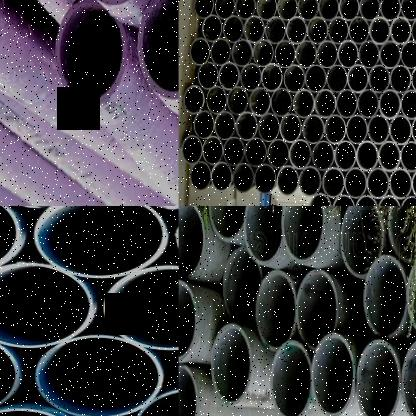pipe: (34, 335, 164, 416), (34, 206, 168, 278), (0, 262, 95, 348), (55, 0, 127, 107), (104, 264, 178, 350), (137, 0, 178, 99), (311, 332, 354, 416), (363, 256, 407, 338), (356, 339, 401, 416), (211, 324, 253, 406), (296, 270, 338, 350), (255, 271, 296, 349), (270, 341, 312, 416), (339, 206, 383, 277), (222, 246, 262, 322), (281, 206, 326, 264), (243, 206, 282, 264), (179, 206, 204, 278), (0, 331, 20, 416), (178, 280, 198, 362), (0, 206, 21, 278), (207, 206, 248, 239), (402, 338, 416, 416), (178, 363, 198, 416), (406, 252, 416, 336), (322, 167, 346, 200), (276, 165, 300, 198), (389, 168, 413, 200), (289, 139, 313, 171), (389, 115, 413, 147), (312, 140, 335, 173), (254, 164, 278, 195), (367, 168, 390, 200), (299, 166, 322, 198), (378, 141, 401, 173), (356, 141, 379, 173), (334, 141, 357, 173), (267, 138, 290, 170), (324, 114, 347, 146), (345, 167, 367, 200), (357, 89, 380, 120), (249, 87, 272, 118), (258, 113, 281, 144), (233, 163, 255, 195), (202, 135, 224, 167), (358, 40, 381, 70), (302, 115, 325, 145), (193, 110, 215, 141), (336, 89, 358, 120), (190, 161, 212, 192), (224, 136, 246, 167), (368, 115, 390, 146), (346, 115, 368, 146), (280, 113, 302, 144), (368, 65, 391, 94), (261, 63, 284, 92), (240, 63, 263, 92), (218, 62, 241, 91), (231, 39, 254, 68), (214, 111, 236, 141), (379, 90, 401, 120), (314, 89, 336, 119), (293, 89, 315, 119), (271, 88, 293, 118), (347, 64, 369, 94), (305, 64, 327, 94), (337, 40, 359, 70), (316, 40, 338, 70), (211, 162, 233, 192), (236, 112, 258, 142), (246, 137, 267, 168), (206, 86, 228, 115), (184, 86, 206, 115), (390, 65, 412, 94), (284, 64, 306, 93), (379, 41, 401, 70), (274, 40, 296, 69), (210, 38, 232, 67), (390, 17, 412, 46), (327, 64, 348, 94), (198, 61, 219, 91), (182, 135, 203, 165), (253, 40, 275, 68), (369, 17, 391, 45), (348, 17, 370, 45), (286, 17, 308, 45), (228, 87, 249, 116), (190, 37, 211, 66), (265, 17, 287, 44), (223, 16, 245, 43), (296, 41, 317, 69), (307, 17, 328, 45), (328, 17, 349, 45), (244, 16, 265, 44), (202, 15, 223, 43), (400, 141, 416, 173), (401, 89, 416, 121), (400, 41, 416, 70), (276, 0, 298, 21), (255, 0, 277, 21), (379, 0, 400, 21), (338, 0, 359, 21), (317, 0, 338, 21), (297, 0, 318, 21), (359, 0, 379, 21), (214, 0, 235, 20), (235, 0, 255, 20), (193, 0, 214, 19), (308, 193, 333, 206), (401, 0, 416, 21), (355, 195, 378, 206), (332, 195, 355, 206), (377, 196, 401, 206), (410, 16, 416, 46), (411, 168, 416, 200), (401, 196, 416, 206), (411, 116, 416, 146), (411, 65, 416, 94)
